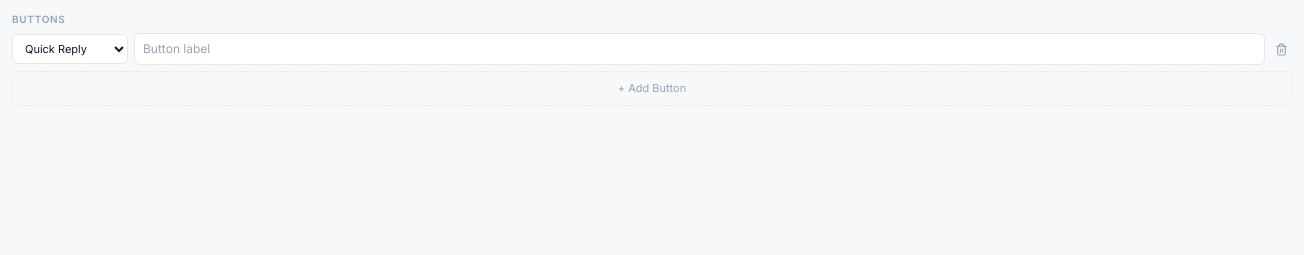
FieldRenderer › offers 'Complete flow' as a button type when allowFlow is set, and switching to it embeds the flow button row
Select "Complete flow" in the dropdown at (70, 49), box 12,34 -> 128,64
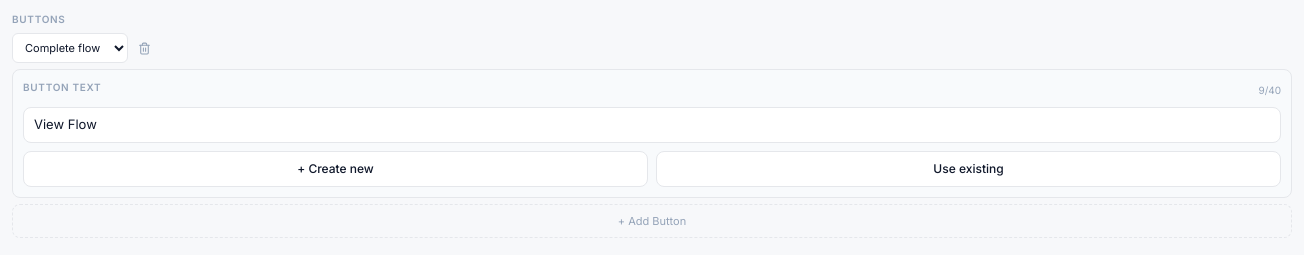
expect the field with placeholder "Button label" is not shown: met
expect the field showing "View Flow" is shown: met, box 23,107 -> 1281,142
expect the button "+ Create new" is shown: met, box 23,150 -> 648,186
